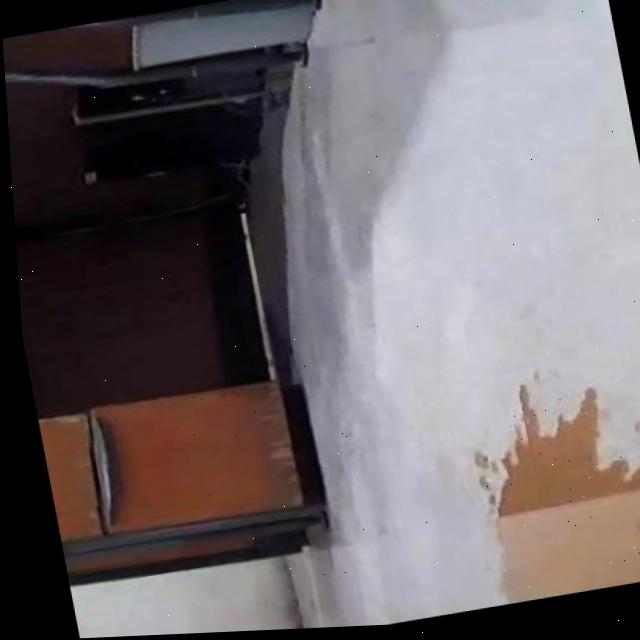spillage: (491, 398, 640, 607)
